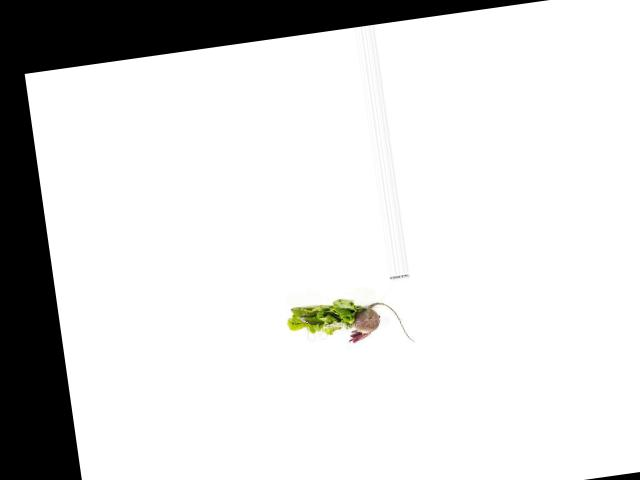beet: (343, 297, 416, 351)
